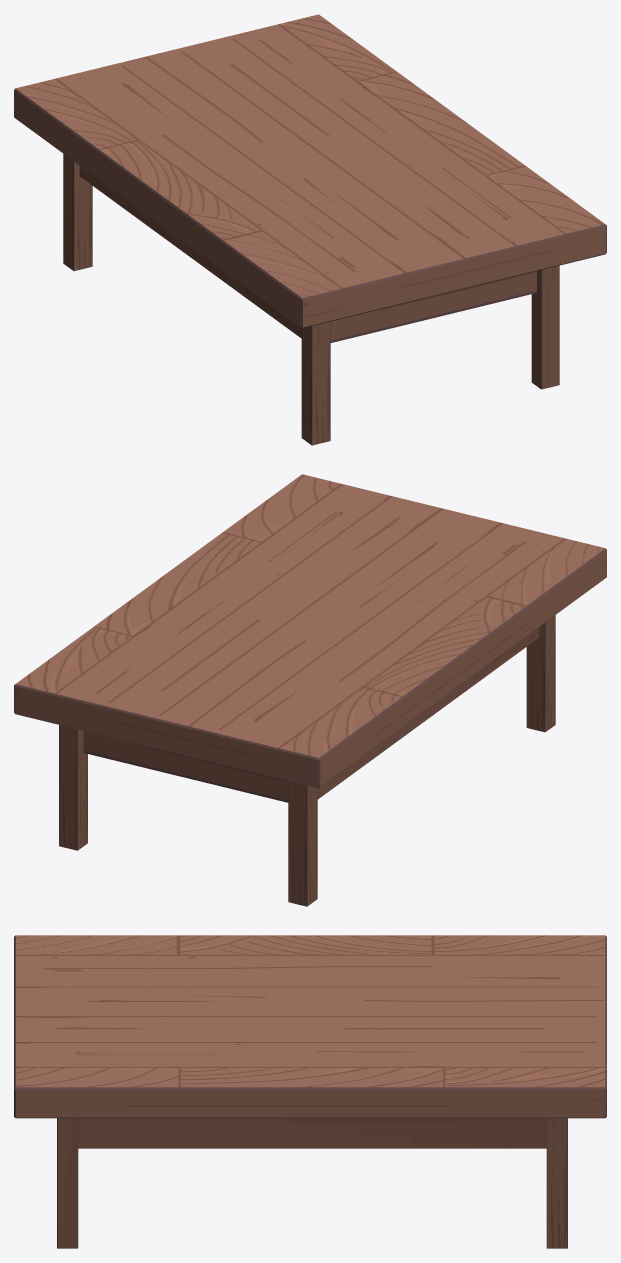
File: Mesh_Room_Table_SM.fbx
3 views of the same model, one above another, from view 1: azimuth 30°, elevation 25°; view 2: azimuth 150°, elevation 25°; view 3: azimuth 270°, elevation 25° (orthographic). The views are drawn at different scales.
Parts seen in each view (by area): view 1: Mesh_Room_Table; view 2: Mesh_Room_Table; view 3: Mesh_Room_Table.
Part boxes in pixels (x1,y1,x2,y2): Mesh_Room_Table: [14, 14, 606, 445]; Mesh_Room_Table: [14, 474, 606, 906]; Mesh_Room_Table: [14, 935, 606, 1248].
Size of the model in its own units: 131 by 69.36 by 214.
